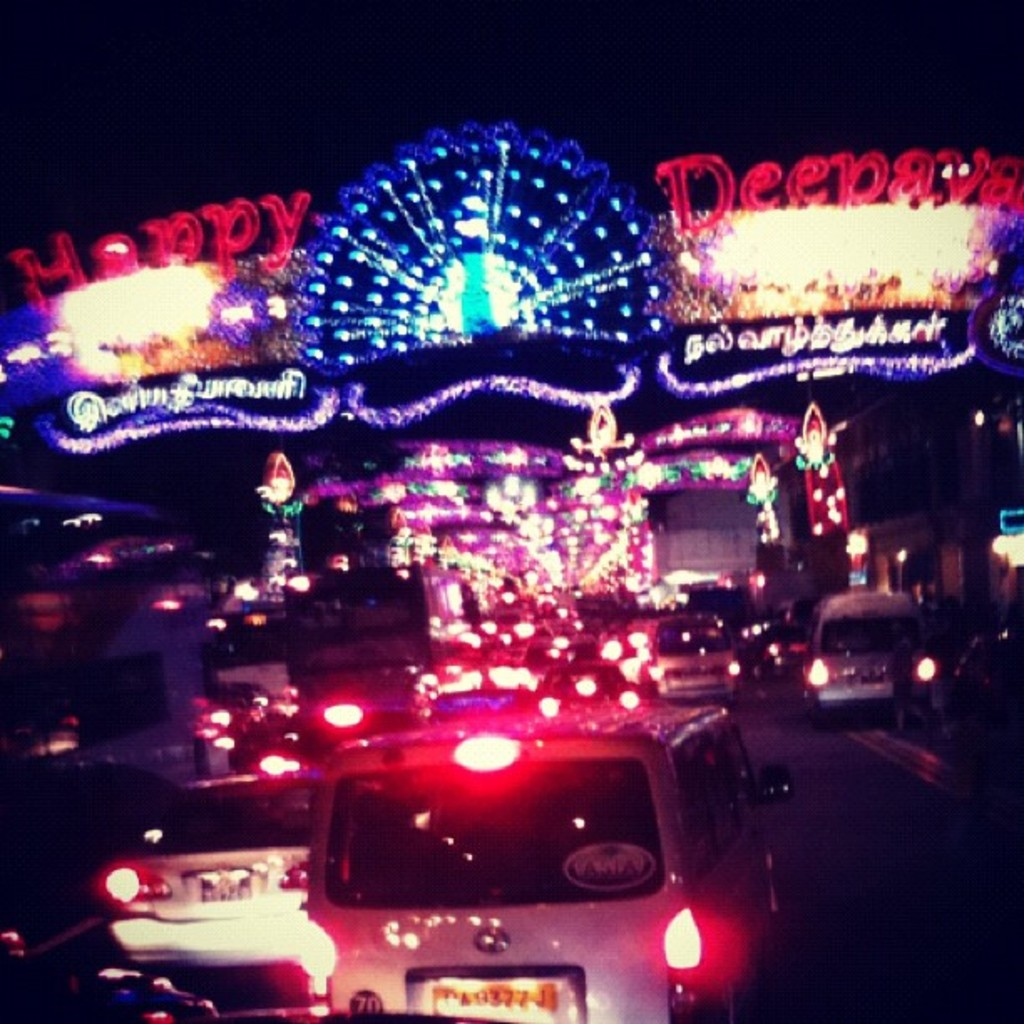Car: (100, 597, 962, 1022)
